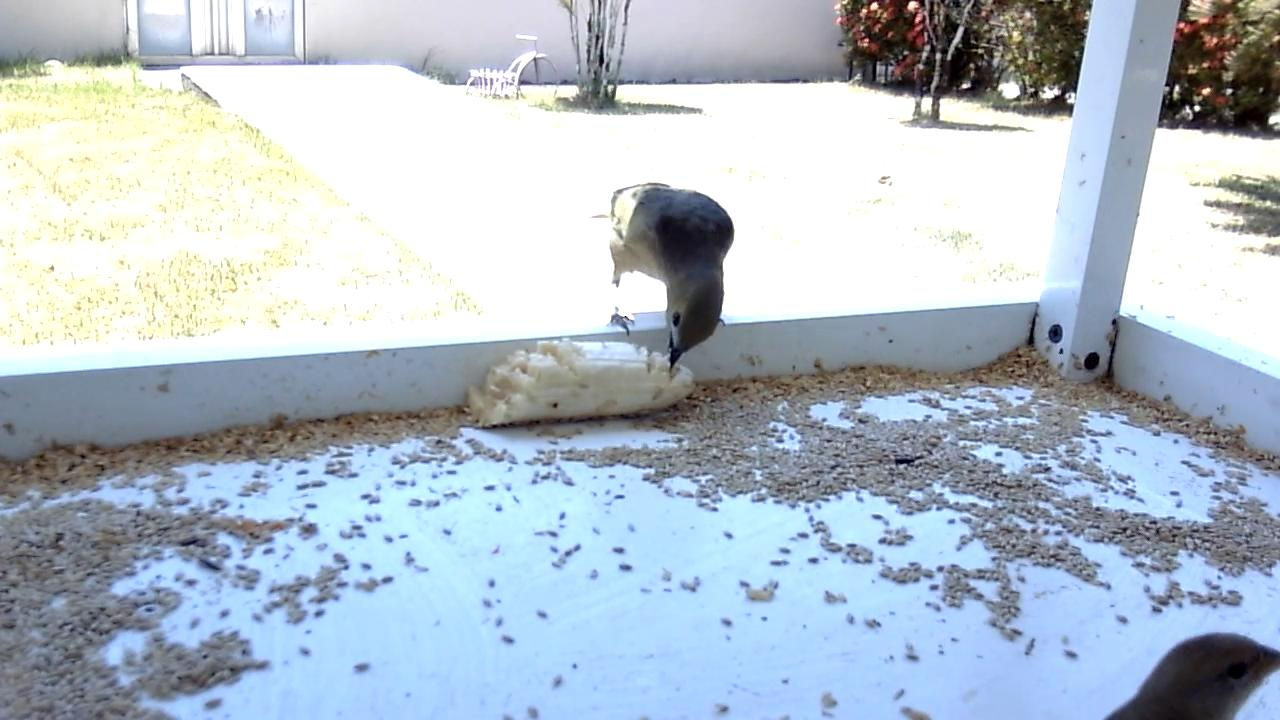canario_do_amazonas: (1104, 629, 1280, 720)
sanhaco_do_coqueiro: (586, 180, 738, 371)
